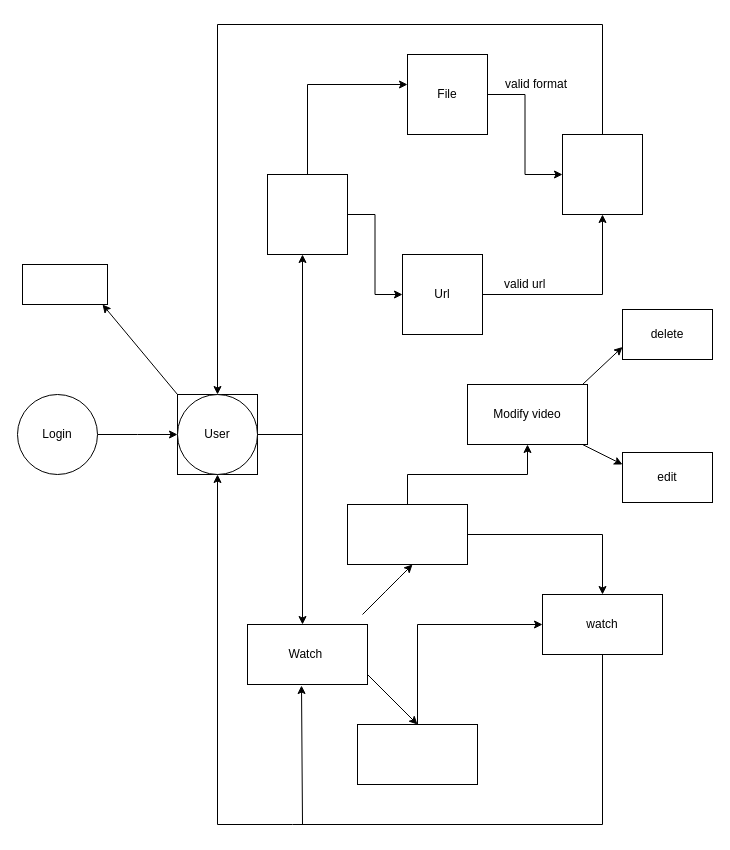
Image size: 730x850. Some labels were removed from this diagram. Here are the shapes that lost their labels. From the top down, the centre of each, then its label:
At [602,174]: "Video posted".
At [307,214]: "Upload Videos".
At [65,284]: "Logout".
At [407,534]: "User's Videos".
At [417,754]: "Search video title".
